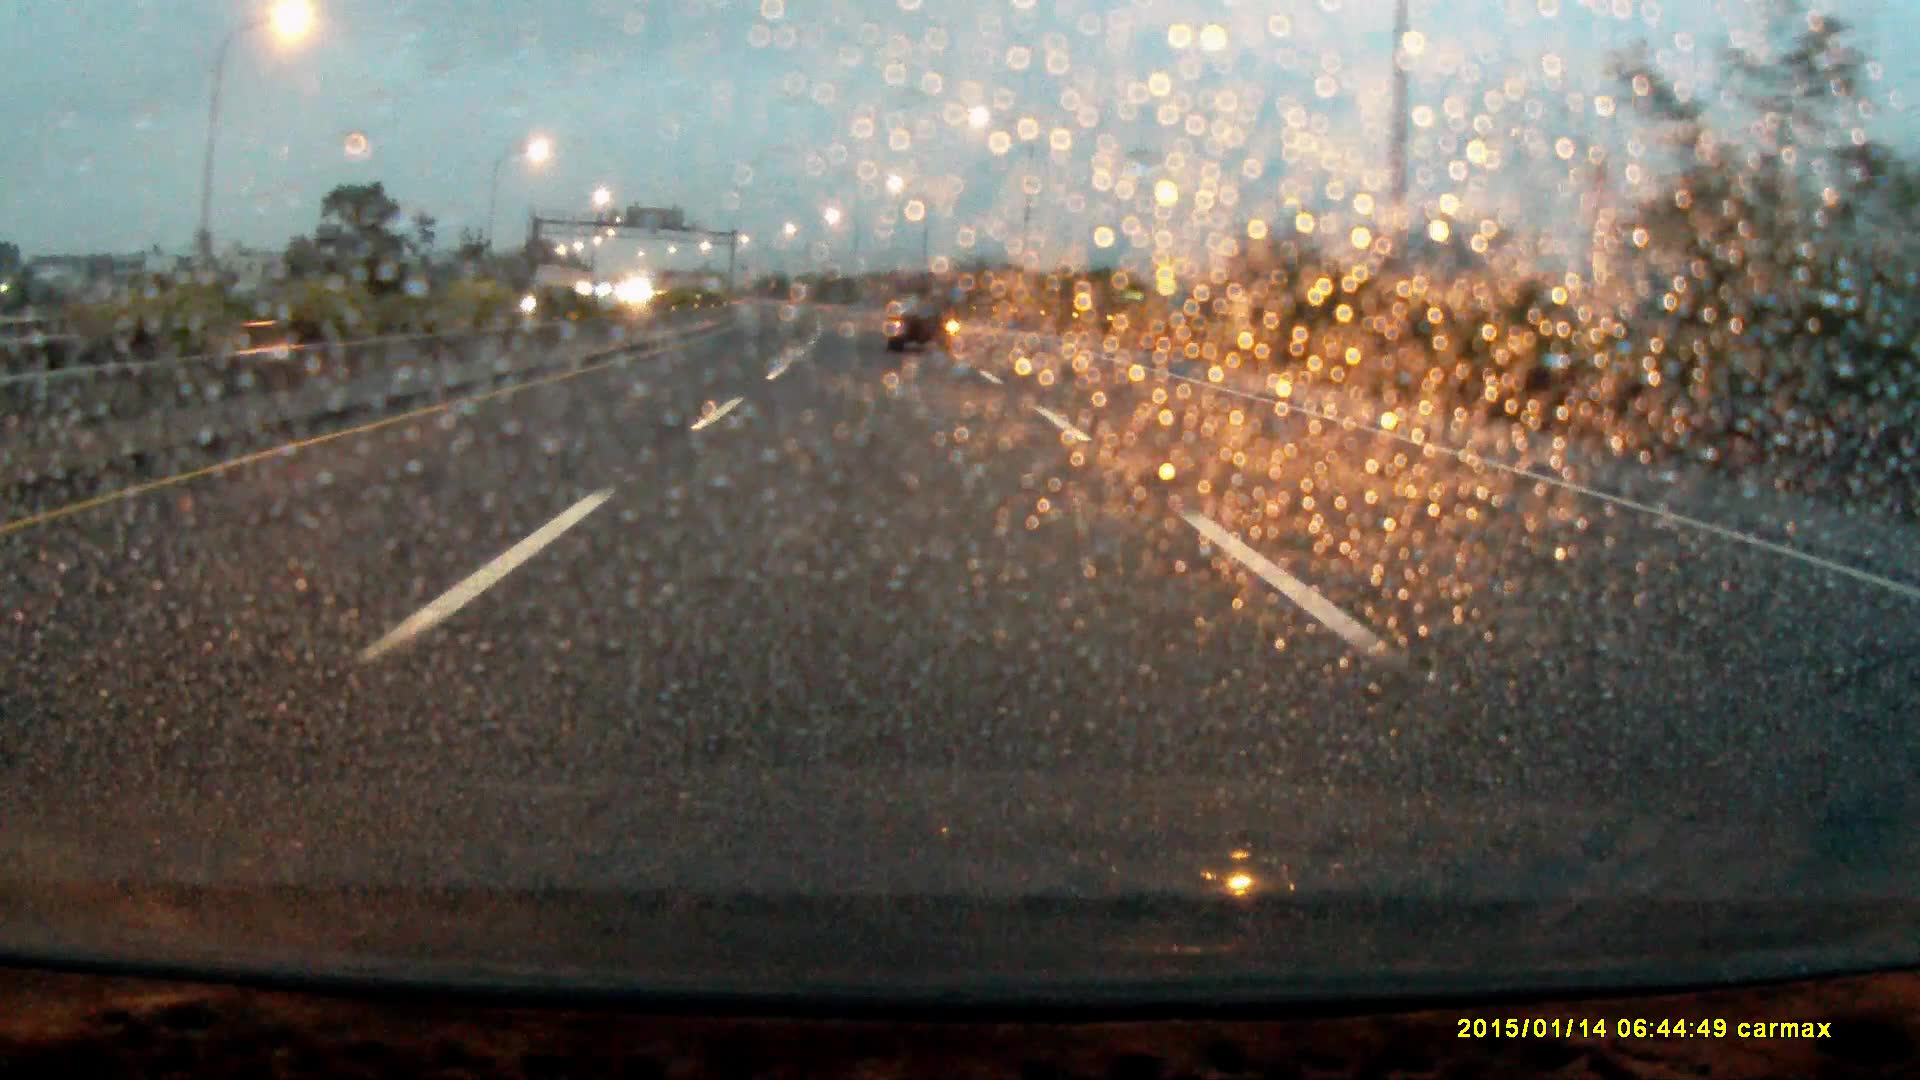vehicle: (887, 270, 960, 353)
